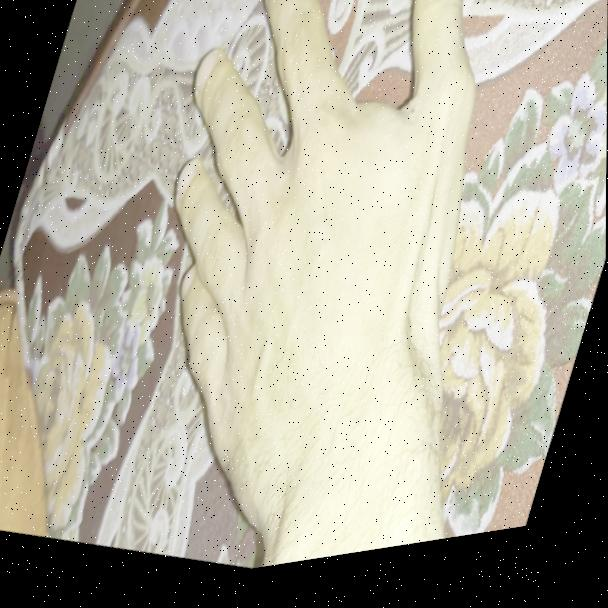five: (72, 0, 527, 571)
